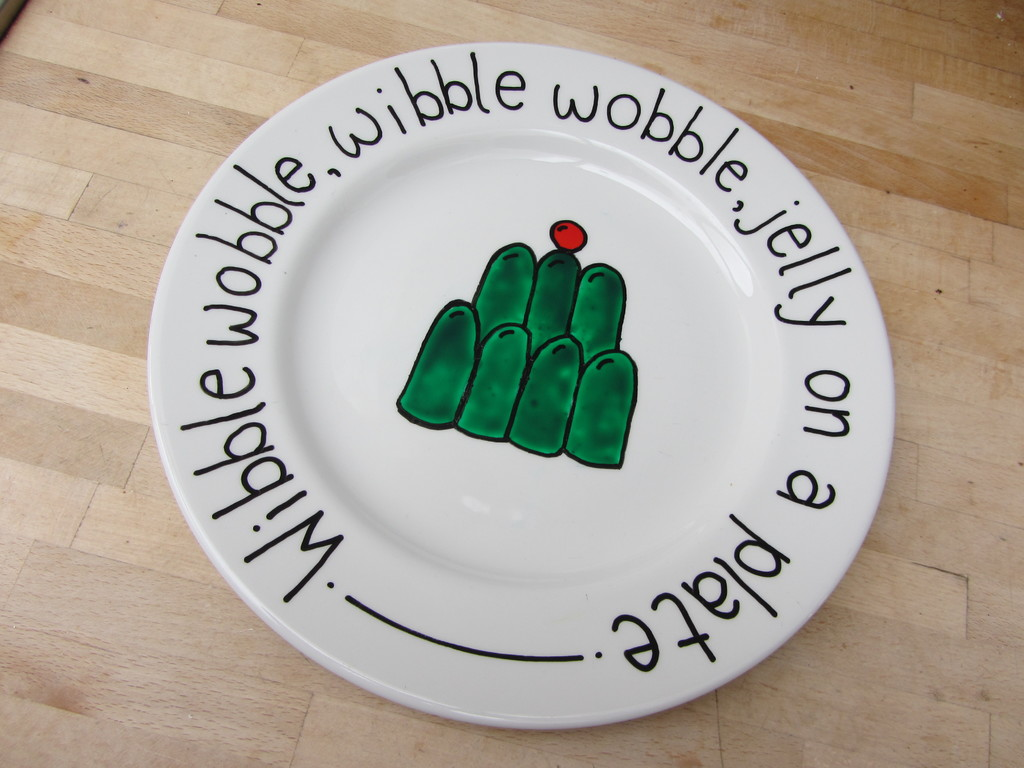plate: (145, 0, 880, 767)
